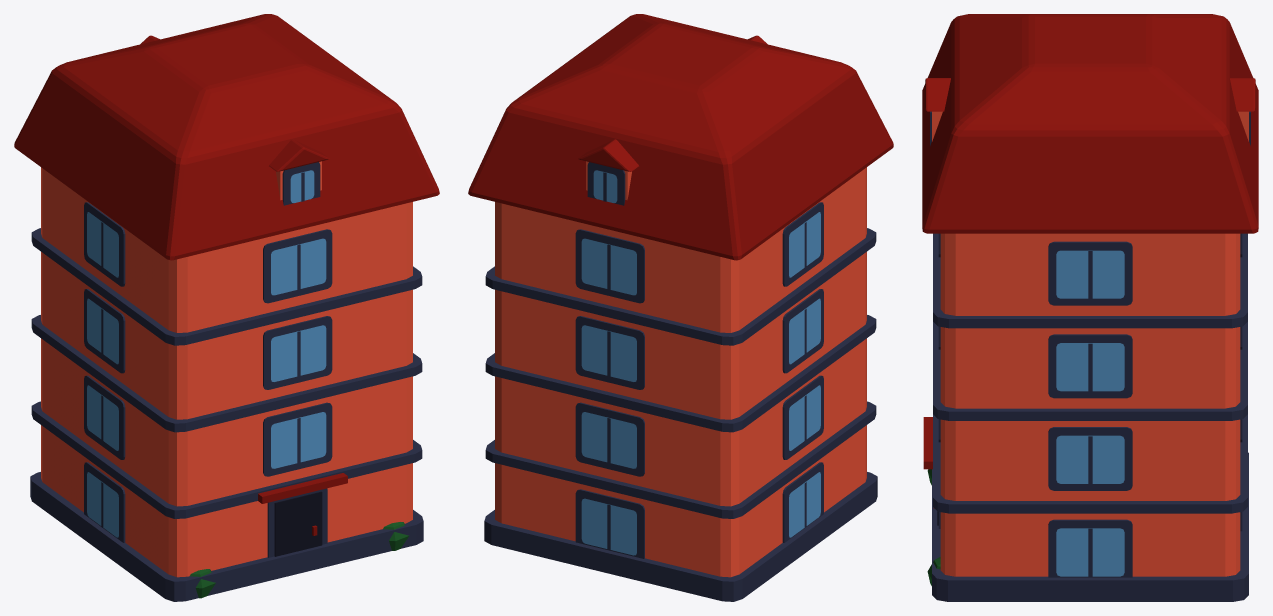
The model's file is house-1x1-4f-mansard-c.glb.
3 views of the same model, side by side, from view 1: azimuth 30°, elevation 25°; view 2: azimuth 150°, elevation 25°; view 3: azimuth 270°, elevation 25° (orthographic). The views are drawn at different scales.
Visible parts, largest first — view 1: house-1x1-4f-mansard-c; view 2: house-1x1-4f-mansard-c; view 3: house-1x1-4f-mansard-c.
Part boxes in pixels (x1,y1,x2,y2): house-1x1-4f-mansard-c: (14,14,439,601); house-1x1-4f-mansard-c: (468,14,893,601); house-1x1-4f-mansard-c: (922,14,1258,601).
Size of the model in its own units: 0.9876 by 1.6 by 0.9876.
Materials: 1 (1 with a texture image).
